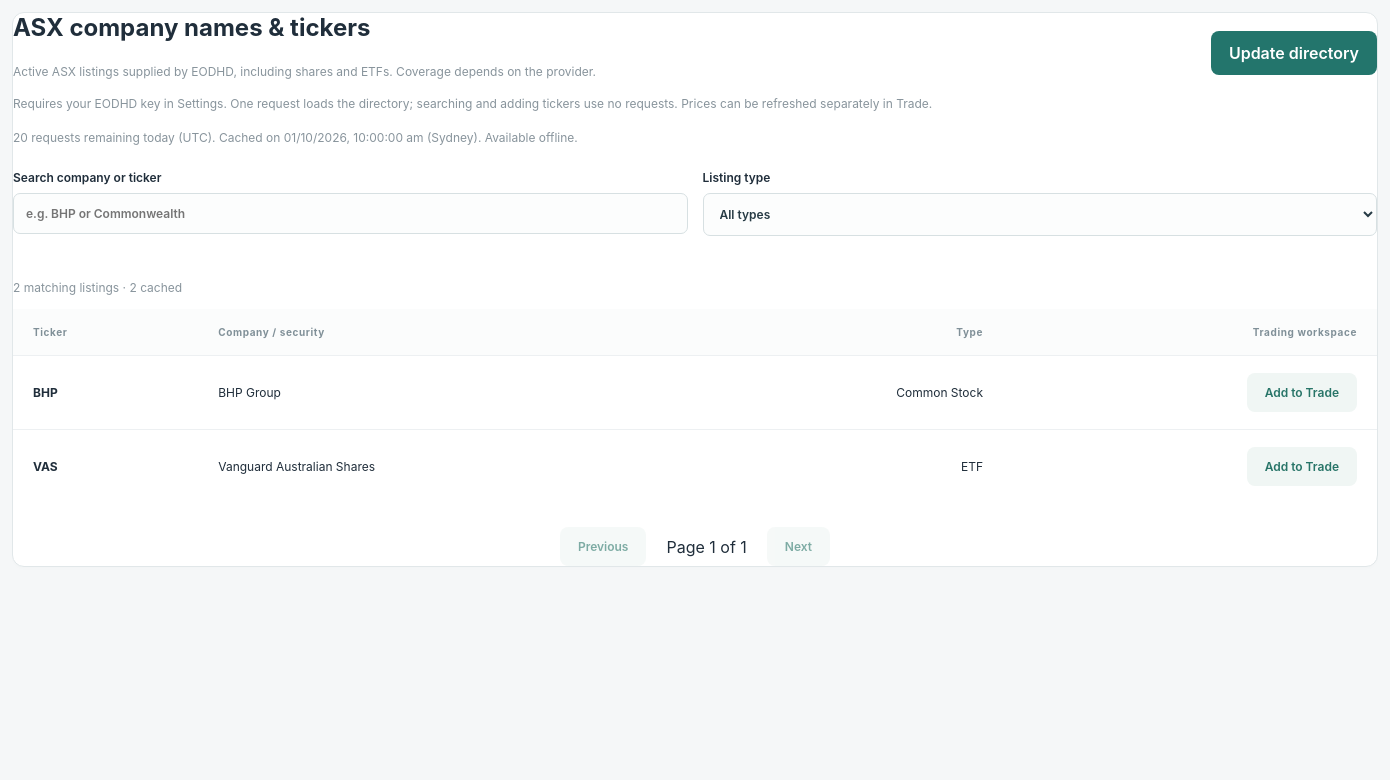
Test: retains the offline list after an update failure and reloads request usage
This screenshot has width=1390, height=780.
Expected: the text "BHP Group" is shown, left=198, top=356, right=688, bottom=430
Click the button "Update directory" at (1294, 53), box left=1211, top=31, right=1377, bottom=75
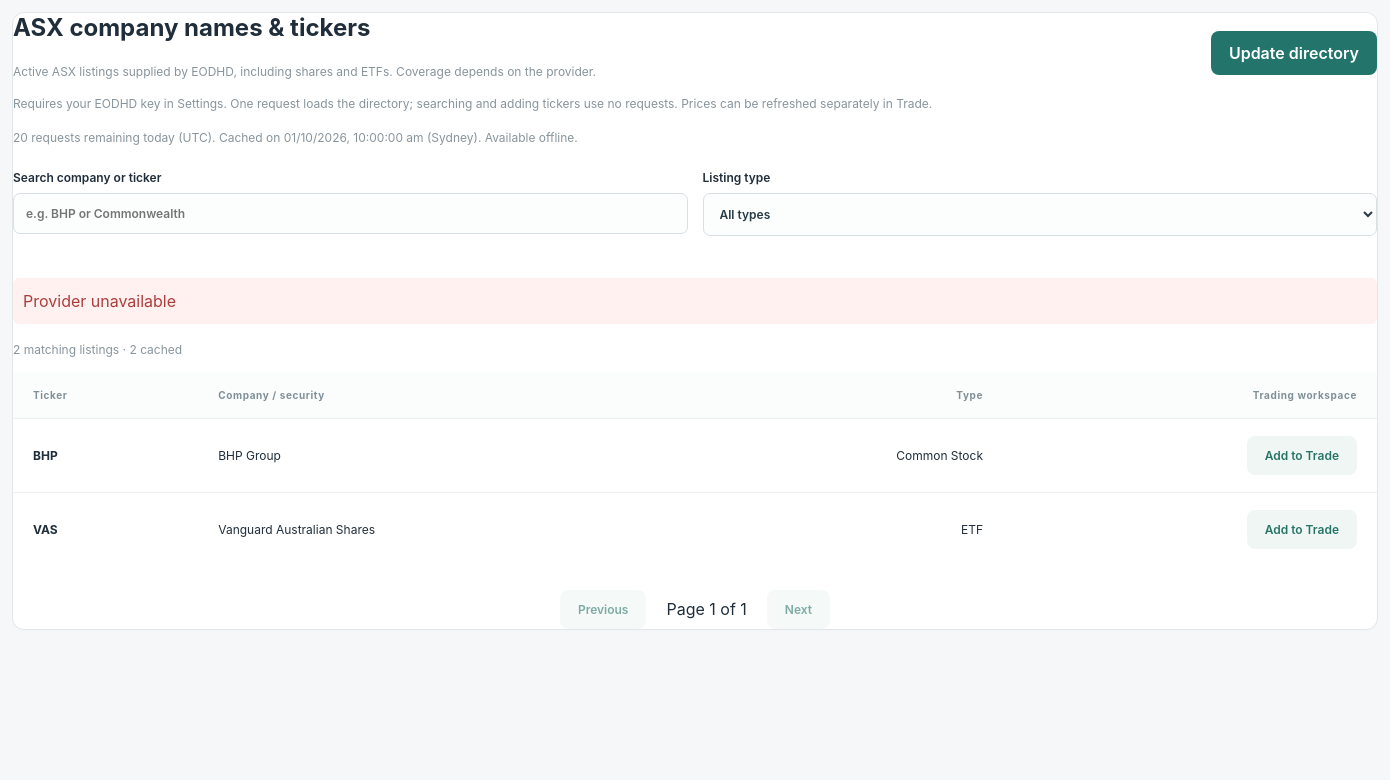
Expected: the text "BHP Group" is shown, left=198, top=418, right=688, bottom=492
Expected: the message reads "Provider unavailable", left=23, top=290, right=176, bottom=310
